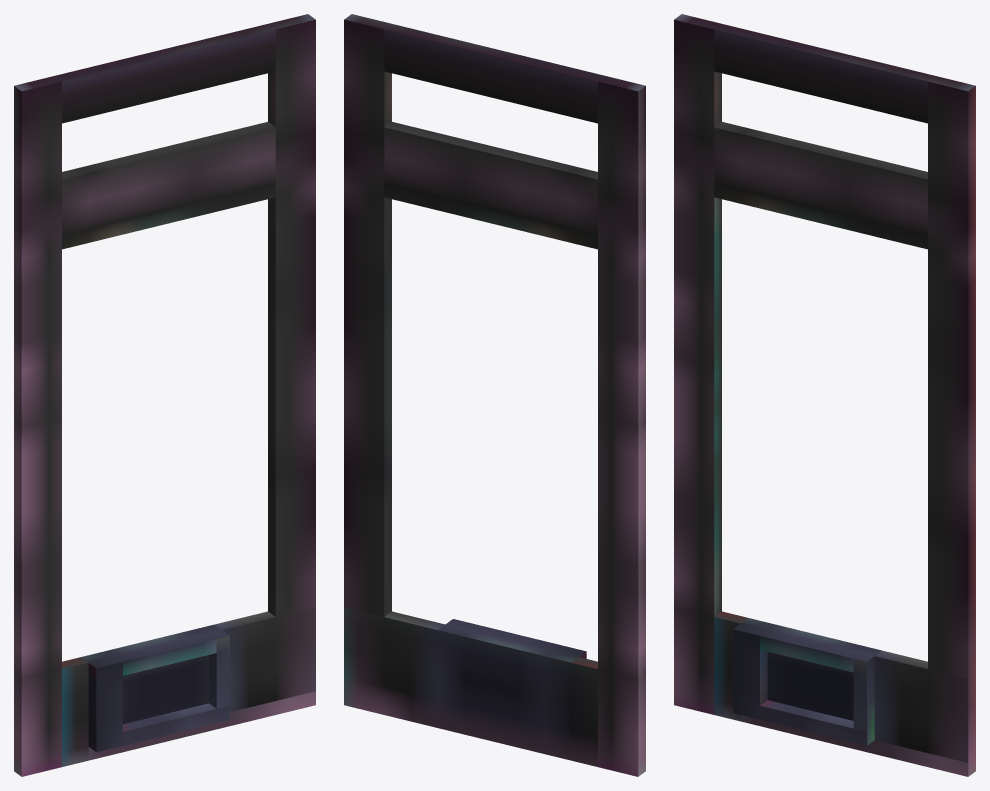
File: Door_E_00.fbx
The picture shows the model from 3 angles, left to right: view 1: azimuth 30°, elevation 25°; view 2: azimuth 150°, elevation 25°; view 3: azimuth 330°, elevation 25°; orthographic projection.
Visible parts, largest first — view 1: Door_E_00; view 2: Door_E_00; view 3: Door_E_00.
Boxes of the visible parts, left/top/right/bottom form: Door_E_00: left=14, top=14, right=315, bottom=776; Door_E_00: left=344, top=14, right=645, bottom=776; Door_E_00: left=674, top=14, right=975, bottom=776.
Bounding box in the file's own units: 110 × 245 × 10.
